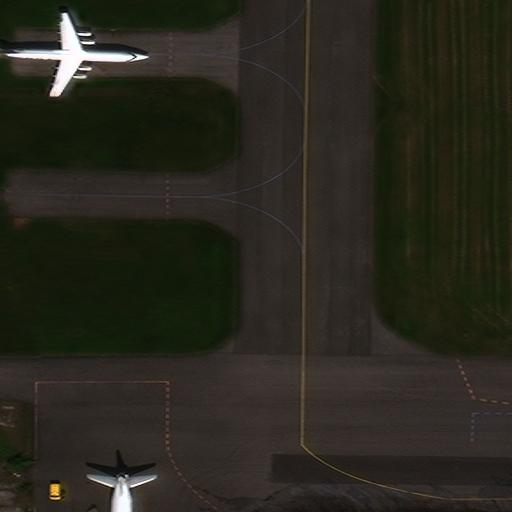Medium Civil Transport: (0, 10, 150, 97), (46, 471, 192, 512)
